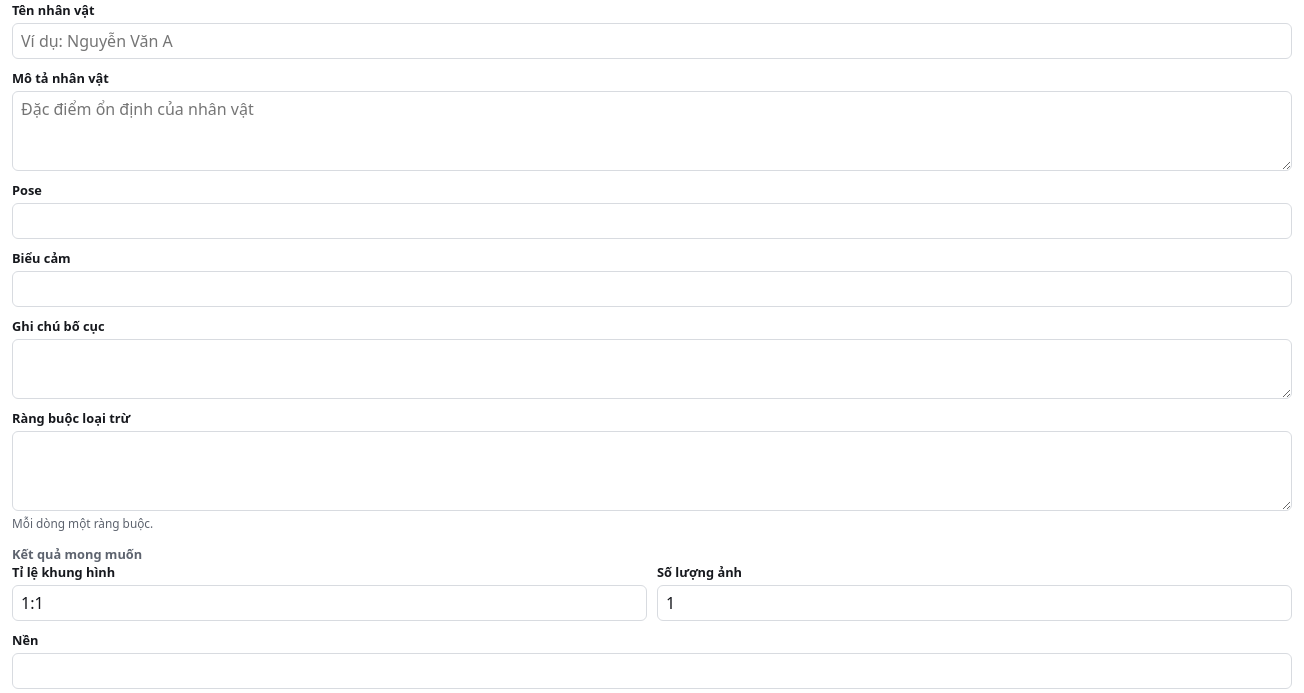
Test: the preview follows the form › rebuilds the prompt as the pose is typed
The width and height of the screenshot is (1304, 693).
Type "đứng thẳng, tay chắp sau lưng" into the field labelled "Pose".
click(652, 221); type("đứng thẳng, tay chắp sau lưng")  # box [12, 203, 1292, 239]
(page scrolled)
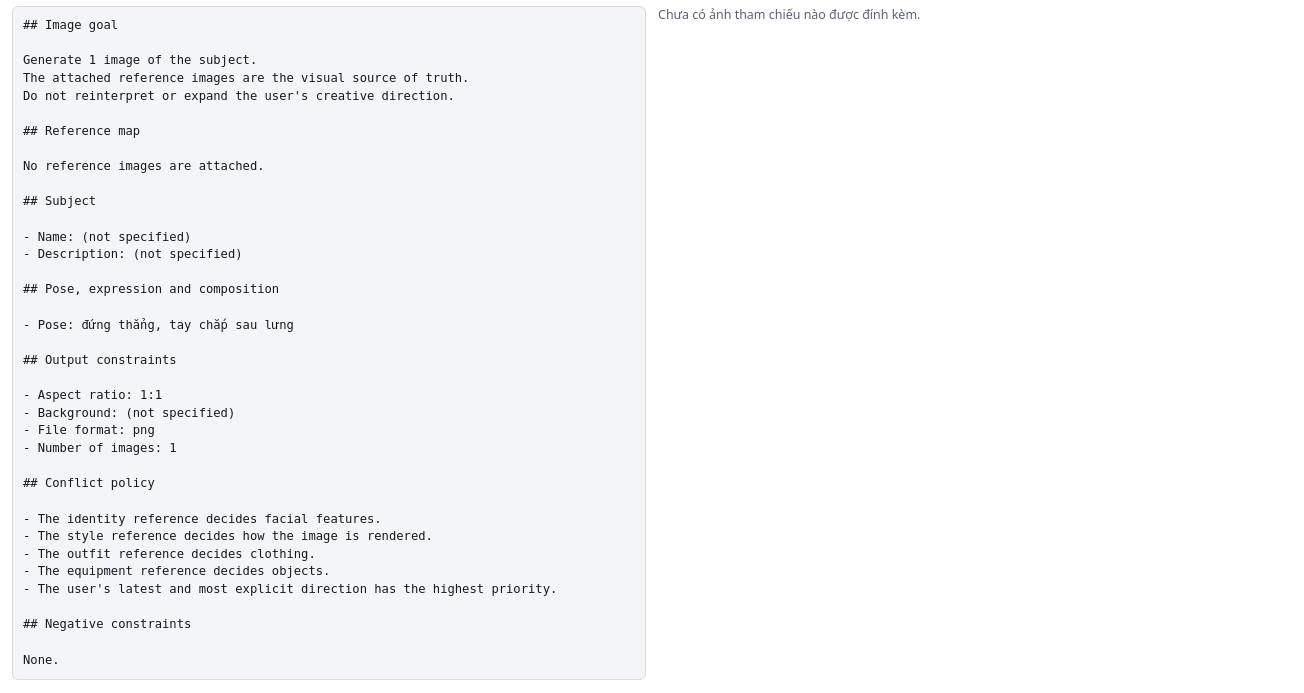
Check: the text named "Prompt" shows "- Pose: đứng thẳng, tay chắp sau lưng", box [23, 18, 557, 666]
